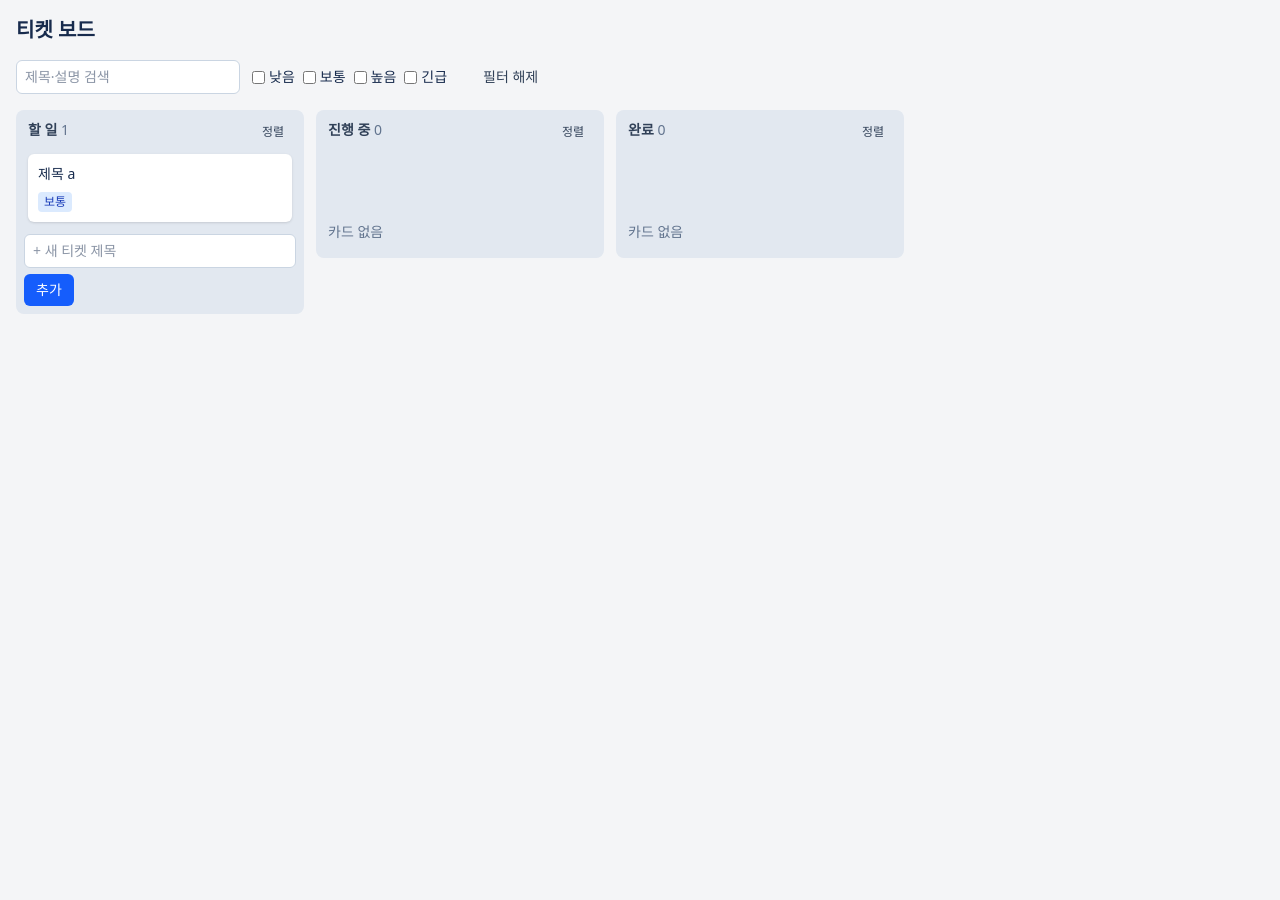
보드 화면 (UI-C01~C05) › TC-UI-008: 카드를 클릭하면 상세 모달이 열린다
Click the text "제목 a" at x=57, y=174, box [38,164,75,184]
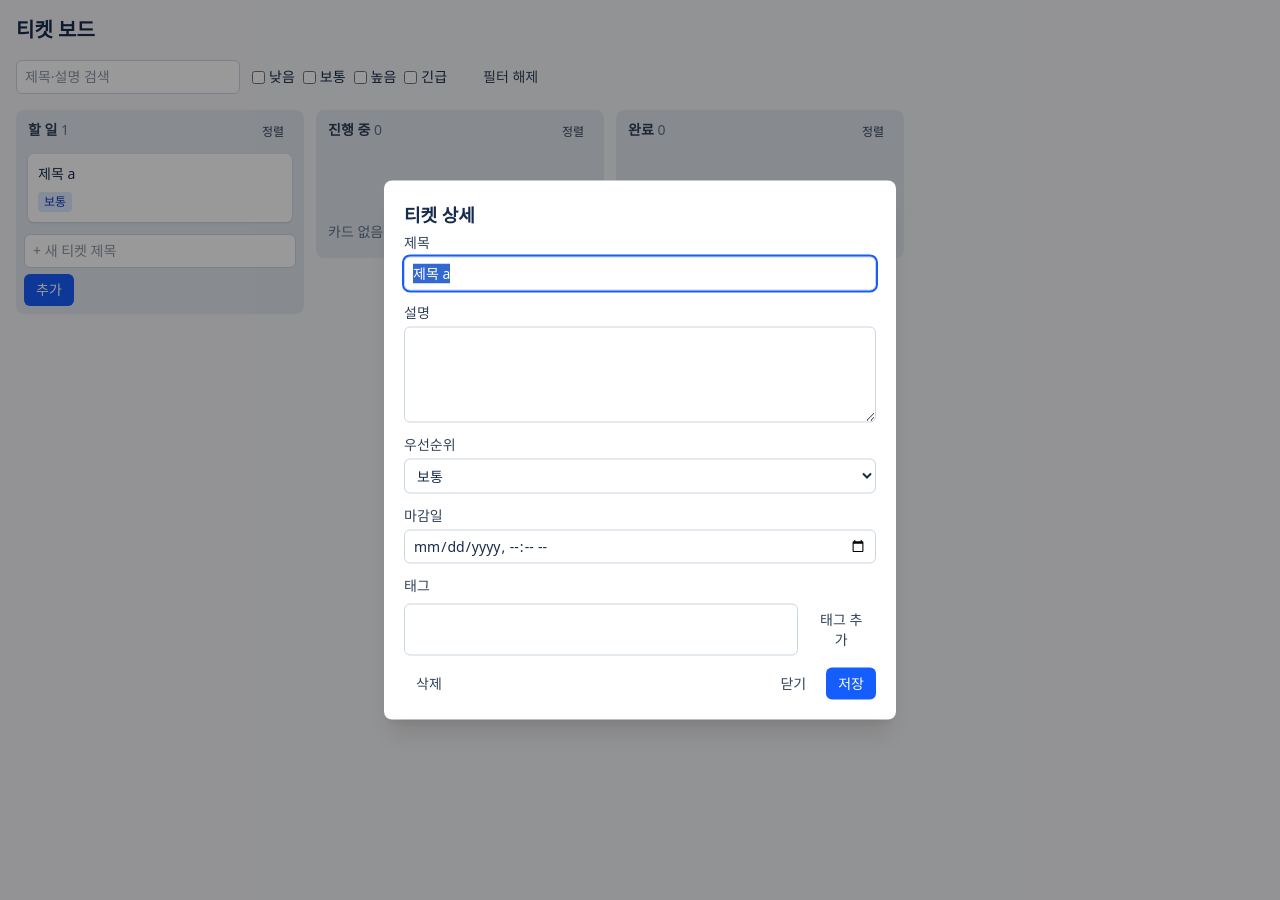
Result: the dialog is shown at [384,180,896,720]
